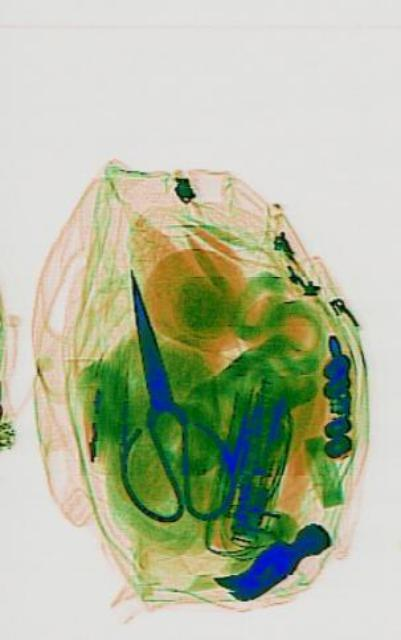Scissors: (77, 243, 240, 547)
